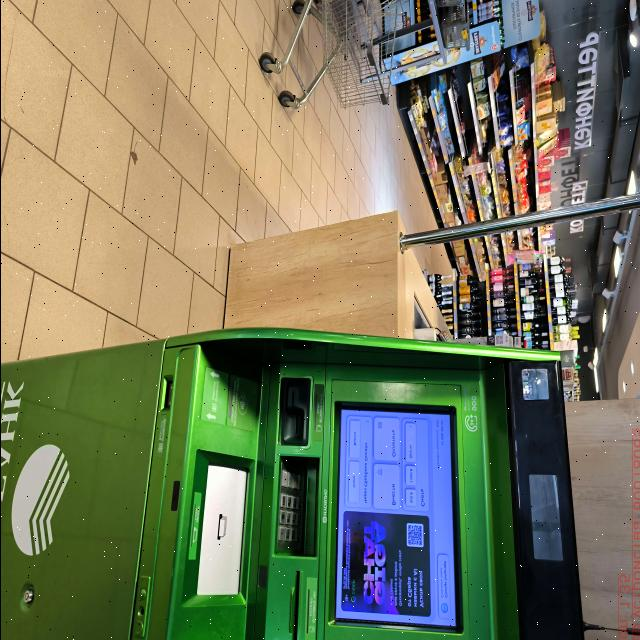bank: (0, 330, 589, 640)
